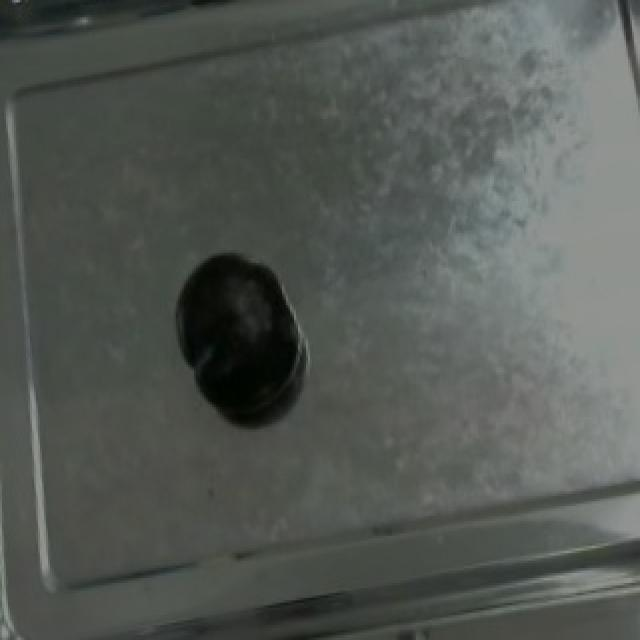Fruit: (174, 243, 304, 427)
